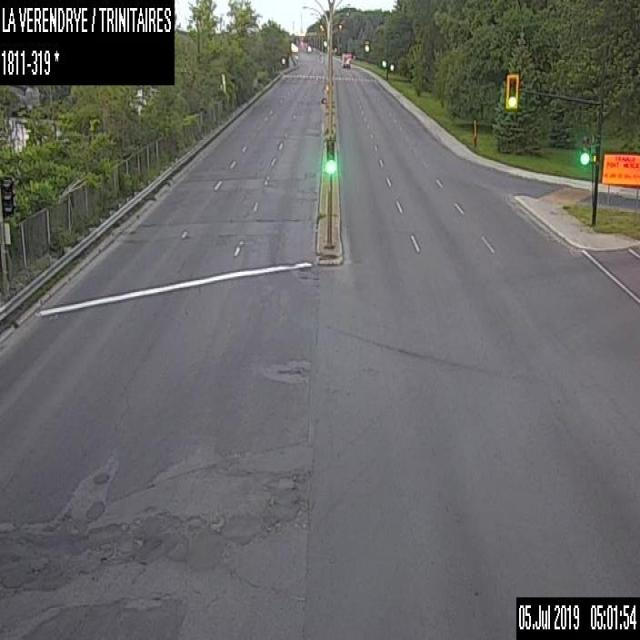vehicle: (340, 50, 351, 66)
